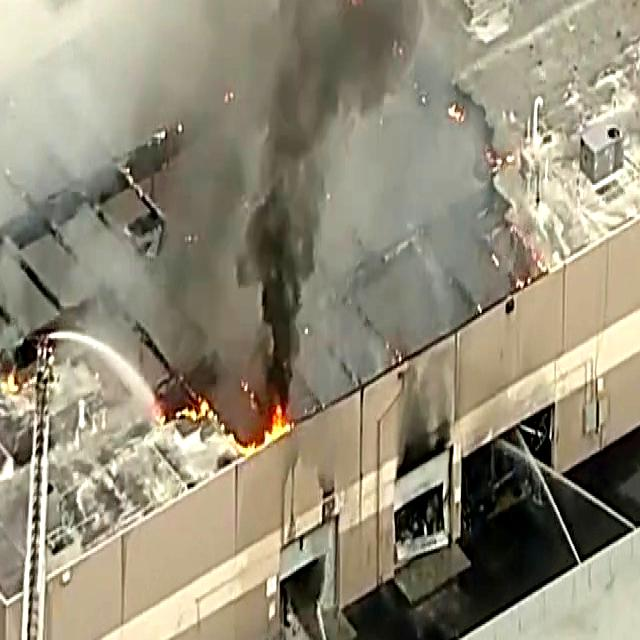smoke: (248, 0, 401, 364)
